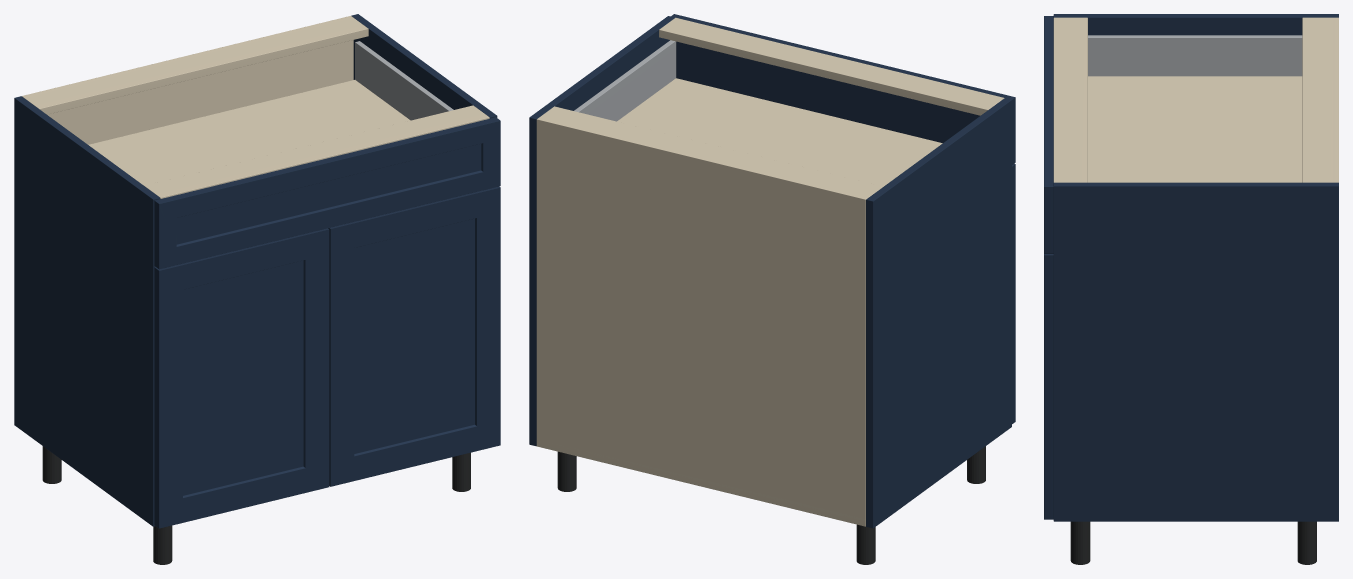
File: oppein-ply-bss-b33.glb
3 renders of one model, left to right at view 1: azimuth 30°, elevation 25°; view 2: azimuth 150°, elevation 25°; view 3: azimuth 270°, elevation 25°, orthographic. The views are drawn at different scales.
Parts seen in each view (by area): view 1: Cabinet side, Door, Door.001, Drawer front, Drawer floor, Cabinet back, Top support rail, Top support rail.001, Drawer side.001, Cabinet side.001, Adjustable foot.001, Adjustable foot.003 (+1 smaller); view 2: Cabinet back, Cabinet side, Drawer floor, Drawer front, Top support rail.001, Cabinet side.001, Top support rail, Drawer side.001, Cabinet bottom, Door, Adjustable foot, Adjustable foot.002; view 3: Cabinet side.001, Drawer floor, Drawer side, Top support rail.001, Top support rail, Cabinet side, Door.001, Drawer front, Cabinet back, Adjustable foot.003, Adjustable foot.002.
Part boxes in pixels (left/top/right/bottom): Cabinet side: left=14, top=96, right=160, bottom=526; Door: left=154, top=228, right=329, bottom=528; Door.001: left=328, top=186, right=500, bottom=486; Drawer front: left=154, top=117, right=500, bottom=269; Drawer floor: left=88, top=80, right=410, bottom=185; Cabinet back: left=22, top=16, right=353, bottom=144; Top support rail: left=24, top=17, right=368, bottom=114; Top support rail.001: left=144, top=105, right=489, bottom=198; Drawer side.001: left=355, top=41, right=453, bottom=120; Cabinet side.001: left=351, top=14, right=497, bottom=118; Adjustable foot.001: left=153, top=525, right=172, bottom=564; Adjustable foot.003: left=452, top=452, right=470, bottom=491; Cabinet back: left=536, top=117, right=867, bottom=526; Cabinet side: left=866, top=98, right=1011, bottom=528; Drawer floor: left=617, top=78, right=942, bottom=186; Drawer front: left=671, top=14, right=1015, bottom=164; Top support rail.001: left=659, top=17, right=1004, bottom=115; Cabinet side.001: left=529, top=16, right=674, bottom=446; Top support rail: left=540, top=106, right=883, bottom=197; Drawer side.001: left=574, top=40, right=676, bottom=121; Cabinet bottom: left=537, top=440, right=865, bottom=526; Door: left=1012, top=163, right=1015, bottom=423; Adjustable foot: left=856, top=524, right=875, bottom=564; Adjustable foot.002: left=557, top=451, right=576, bottom=491; Cabinet side.001: left=1053, top=182, right=1338, bottom=521; Drawer floor: left=1088, top=76, right=1302, bottom=182; Drawer side: left=1088, top=35, right=1302, bottom=76; Top support rail.001: left=1053, top=17, right=1087, bottom=182; Top support rail: left=1302, top=17, right=1333, bottom=182; Cabinet side: left=1053, top=14, right=1338, bottom=35; Door.001: left=1044, top=254, right=1053, bottom=519; Drawer front: left=1044, top=16, right=1053, bottom=253; Cabinet back: left=1333, top=17, right=1338, bottom=182; Adjustable foot.003: left=1070, top=521, right=1090, bottom=564; Adjustable foot.002: left=1297, top=521, right=1316, bottom=564.
Bounding box in the file's own units: 0.8382 × 0.8763 × 0.6064.
